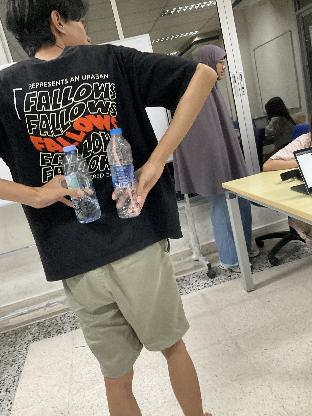Plastic Bottle: (106, 128, 142, 218), (62, 144, 102, 224)
